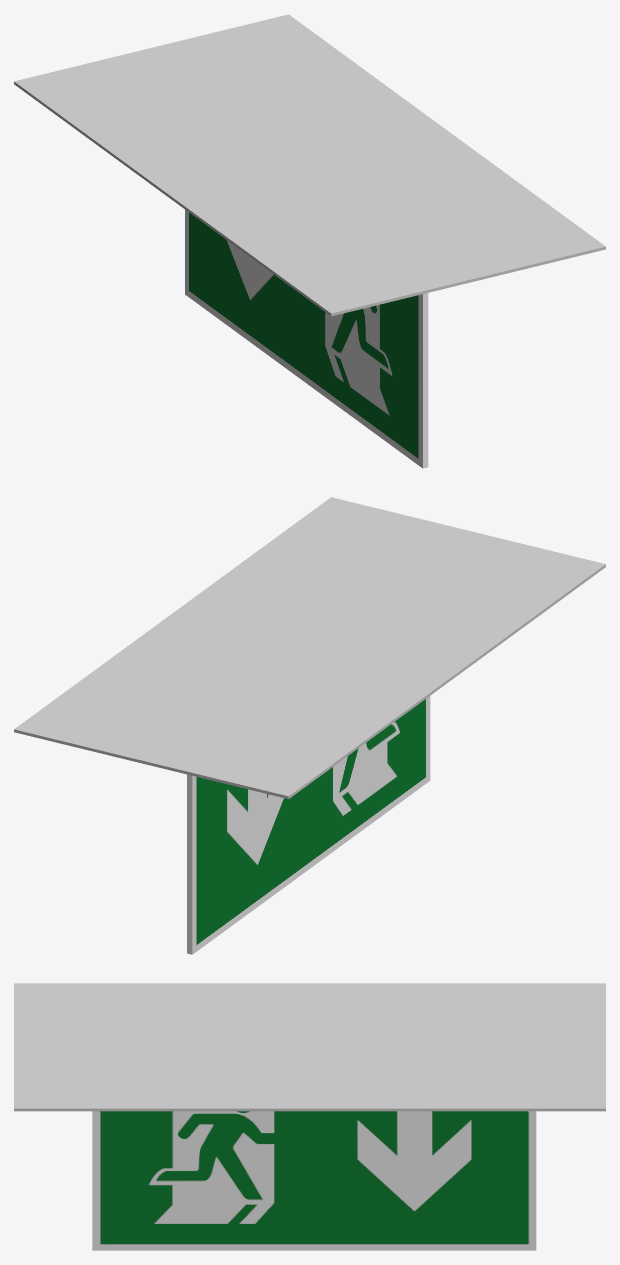
File: fireexitsign.fbx
3 renders of one model, top to bottom at view 1: azimuth 30°, elevation 25°; view 2: azimuth 150°, elevation 25°; view 3: azimuth 270°, elevation 25°, orthographic. The views are drawn at different scales.
Visible parts, largest first — view 1: top, exit_sign; view 2: top, exit_sign; view 3: top, exit_sign.
Boxes of the visible parts, x1,y1,x2,y2 form: top: (14,14,605,316); exit_sign: (185,209,428,468); top: (14,497,605,799); exit_sign: (187,696,430,954); top: (14,983,605,1111); exit_sign: (92,1111,536,1250).
Size of the model in its own units: 20 by 15.19 by 40.
